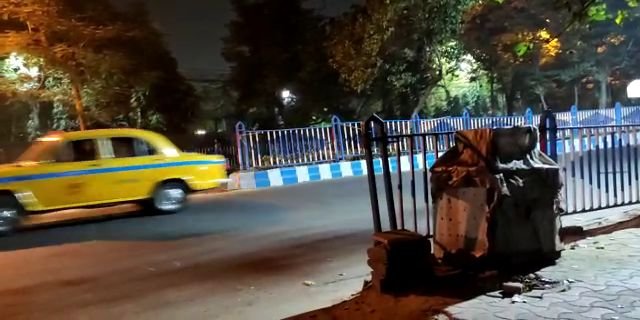Car: (1, 126, 234, 232)
